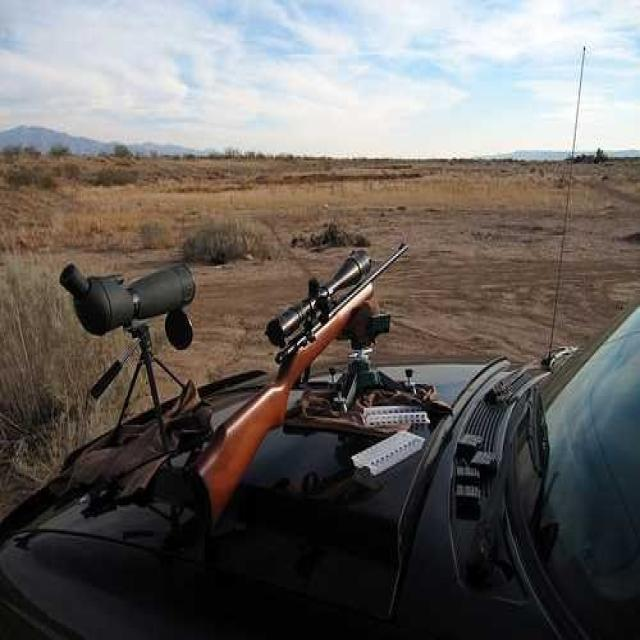heavyweapon: (167, 211, 431, 566)
